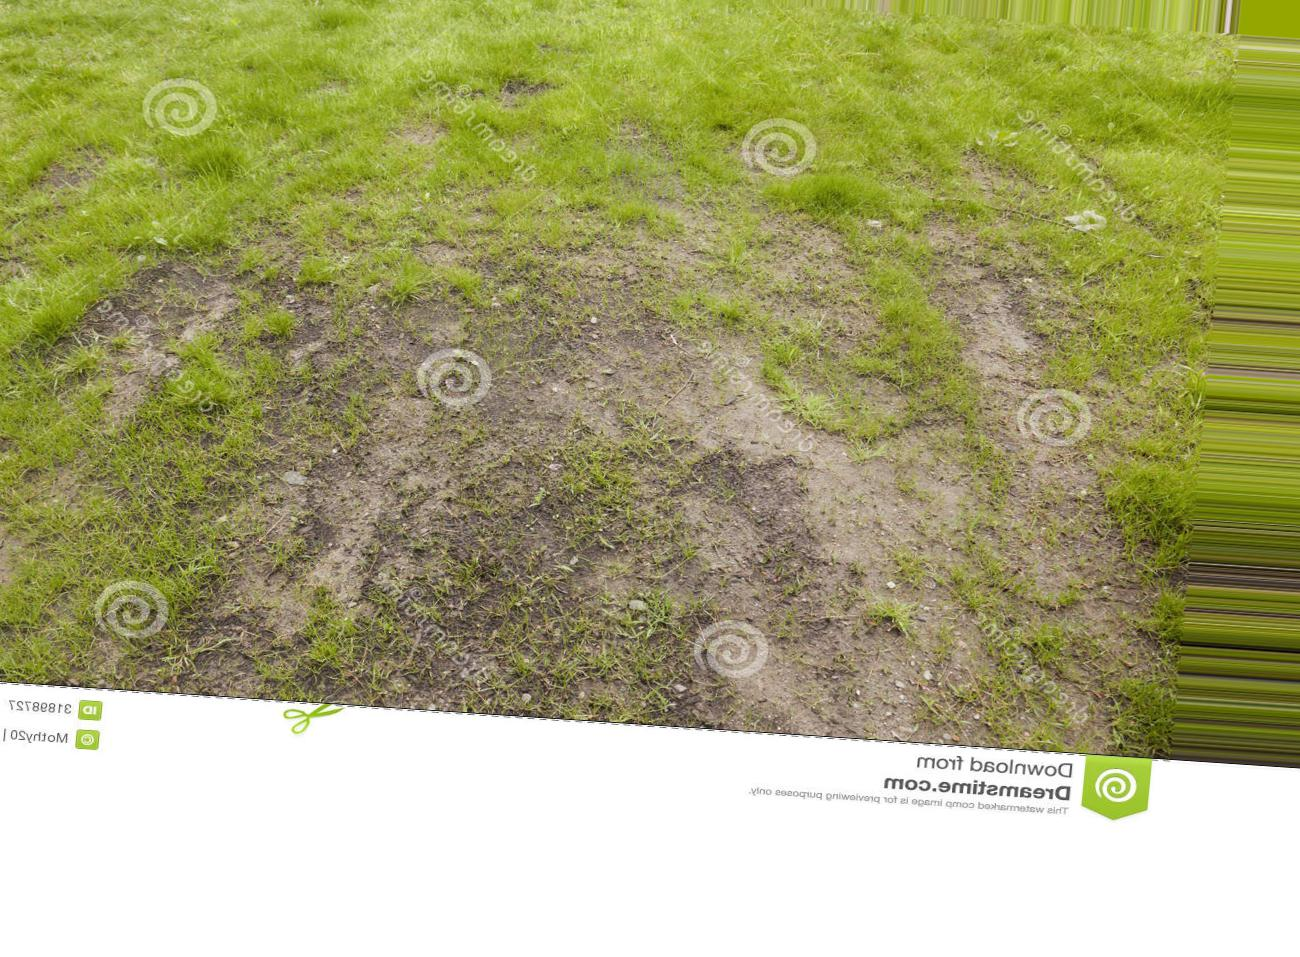patch: (295, 182, 547, 284), (559, 313, 749, 437), (274, 431, 449, 556), (195, 567, 341, 672), (522, 486, 688, 565), (795, 621, 949, 705), (128, 282, 286, 362), (343, 314, 495, 393), (1003, 536, 1118, 637), (807, 478, 945, 553), (969, 292, 1050, 351)
